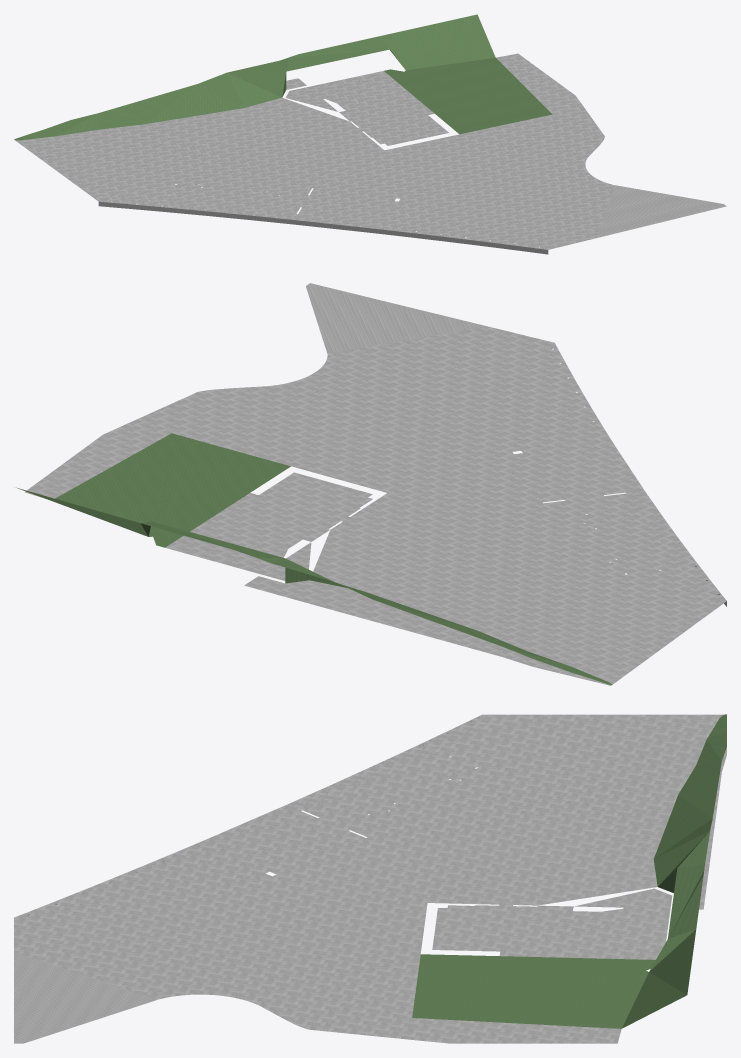
Rendered from bystrc-quay.glb.
3 renders of one model, top to bottom at view 1: azimuth 30°, elevation 25°; view 2: azimuth 150°, elevation 25°; view 3: azimuth 270°, elevation 25°, orthographic. The views are drawn at different scales.
Parts seen in each view (by area): view 1: Quay paving, concrete edge and slope; view 2: Quay paving, concrete edge and slope; view 3: Quay paving, concrete edge and slope.
Part boxes in pixels (x1,y1,x2,y2): Quay paving, concrete edge and slope: [14, 14, 726, 254]; Quay paving, concrete edge and slope: [16, 283, 726, 685]; Quay paving, concrete edge and slope: [14, 714, 726, 1043].
Size of the model in its own units: 32 by 1.97 by 29.3.
Materials: 3 (3 with a texture image).
